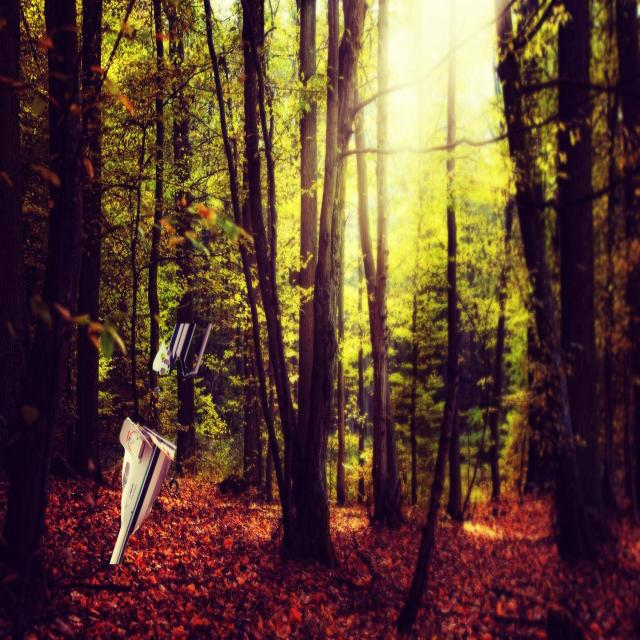airplane: (109, 416, 177, 566)
